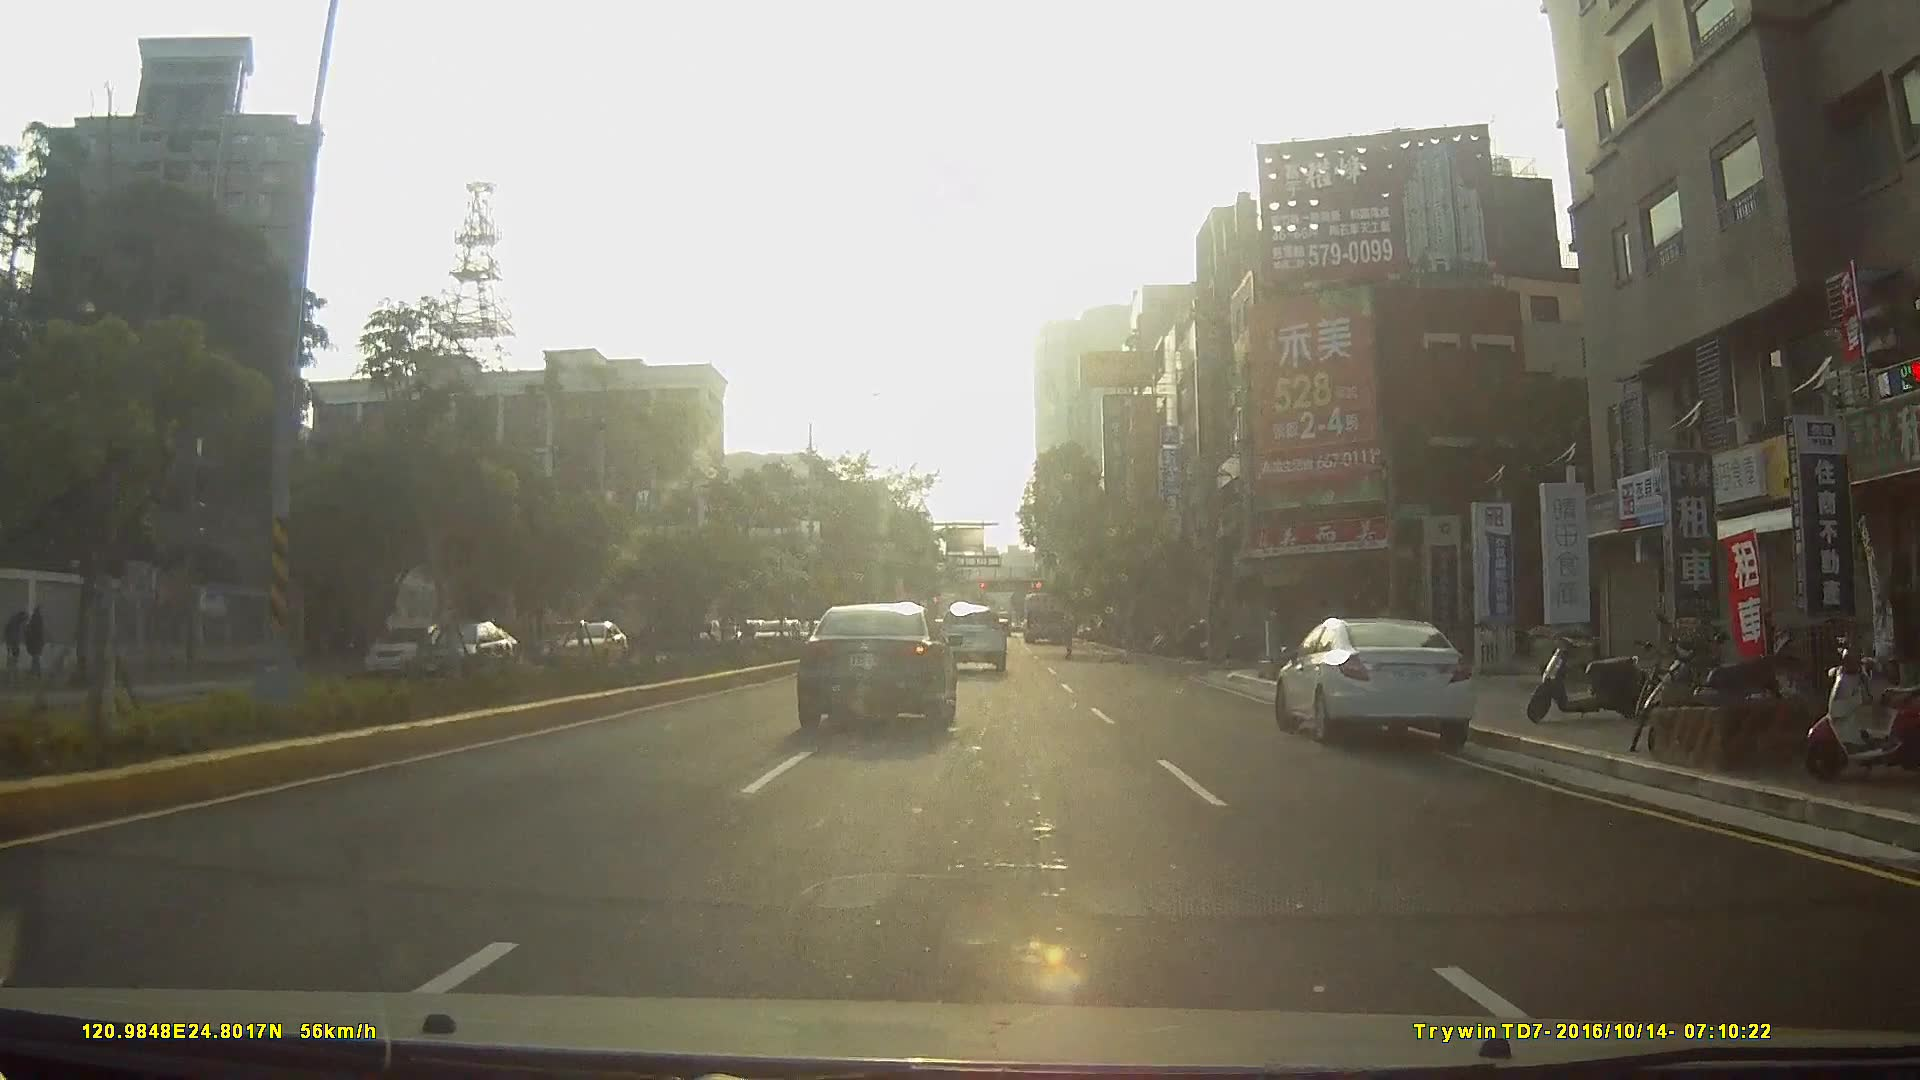pedestrian: (25, 607, 46, 677), (6, 611, 28, 667)
vehicle: (1276, 616, 1486, 751), (793, 600, 957, 731), (391, 613, 522, 697), (352, 622, 448, 678), (932, 603, 1005, 675), (549, 619, 632, 672), (438, 622, 513, 672), (1020, 589, 1065, 646), (746, 619, 797, 657)
